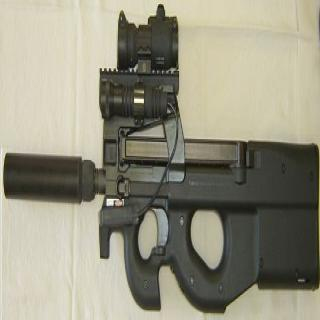gun: (3, 4, 320, 312)
